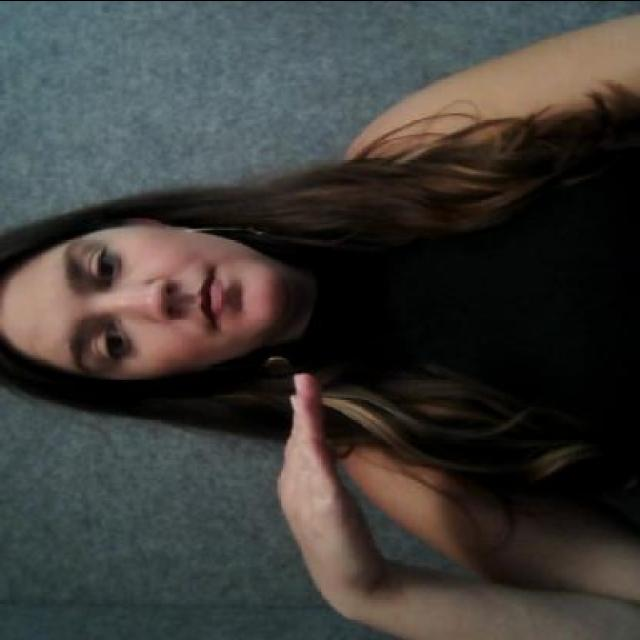Paper: (255, 368, 358, 600)
